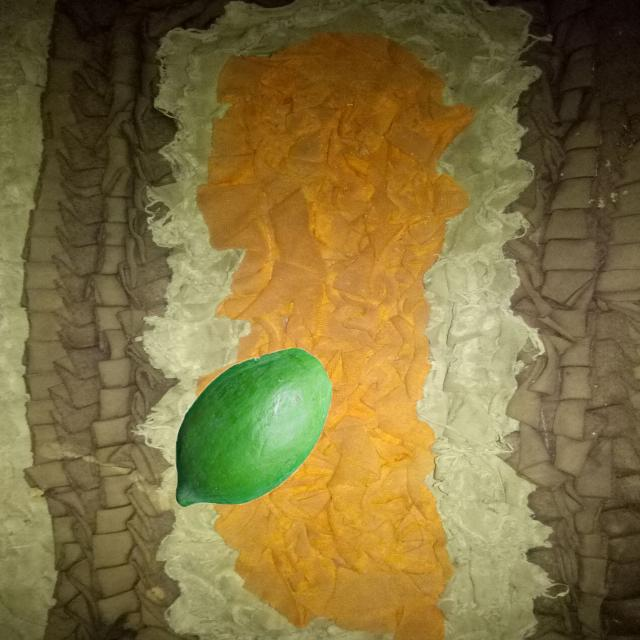Pepaya unrippen: (170, 347, 334, 518)
